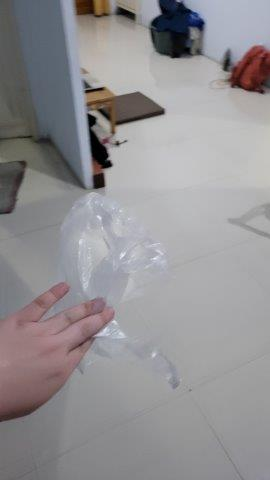plastik: (51, 190, 183, 397)
